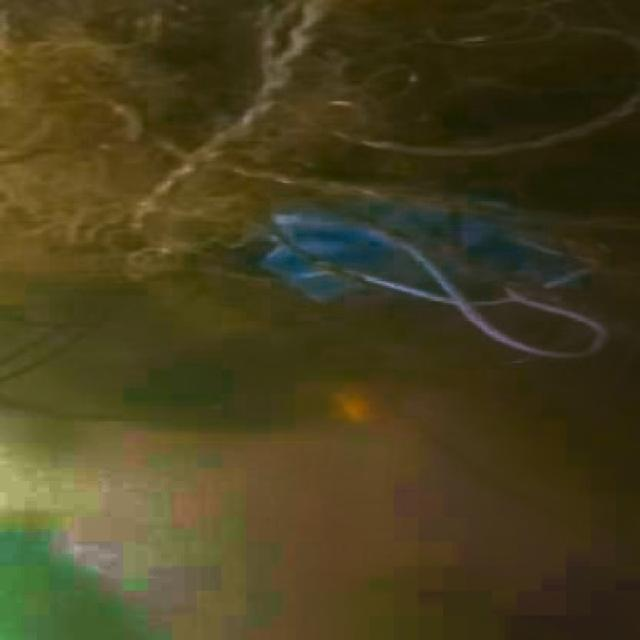Mask: (219, 182, 623, 392)
